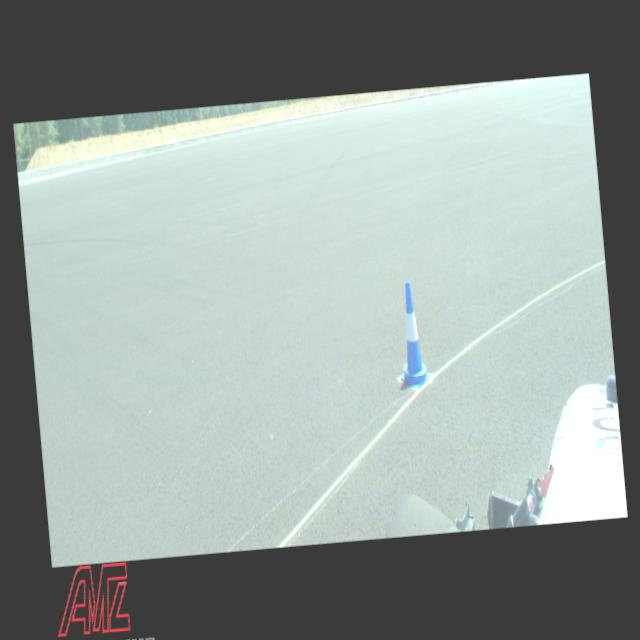blue_cone: (392, 280, 432, 388)
